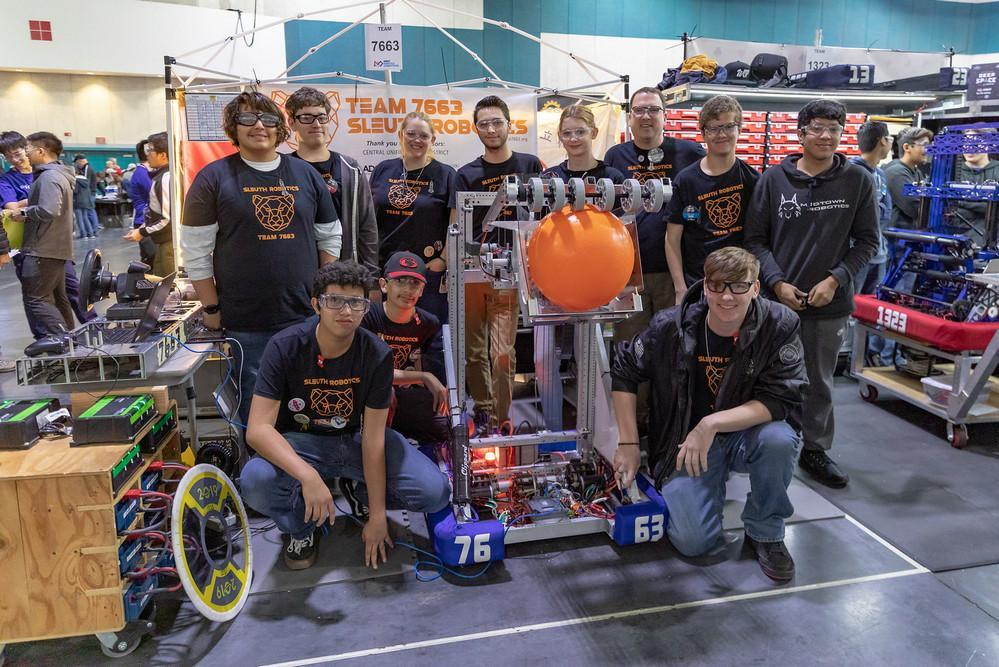robot: (420, 173, 684, 578), (847, 120, 999, 355)
